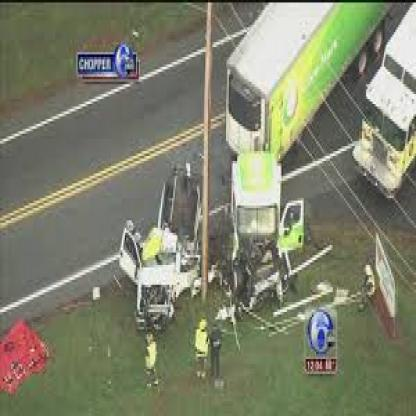accident: (108, 133, 226, 359), (233, 144, 332, 340)
